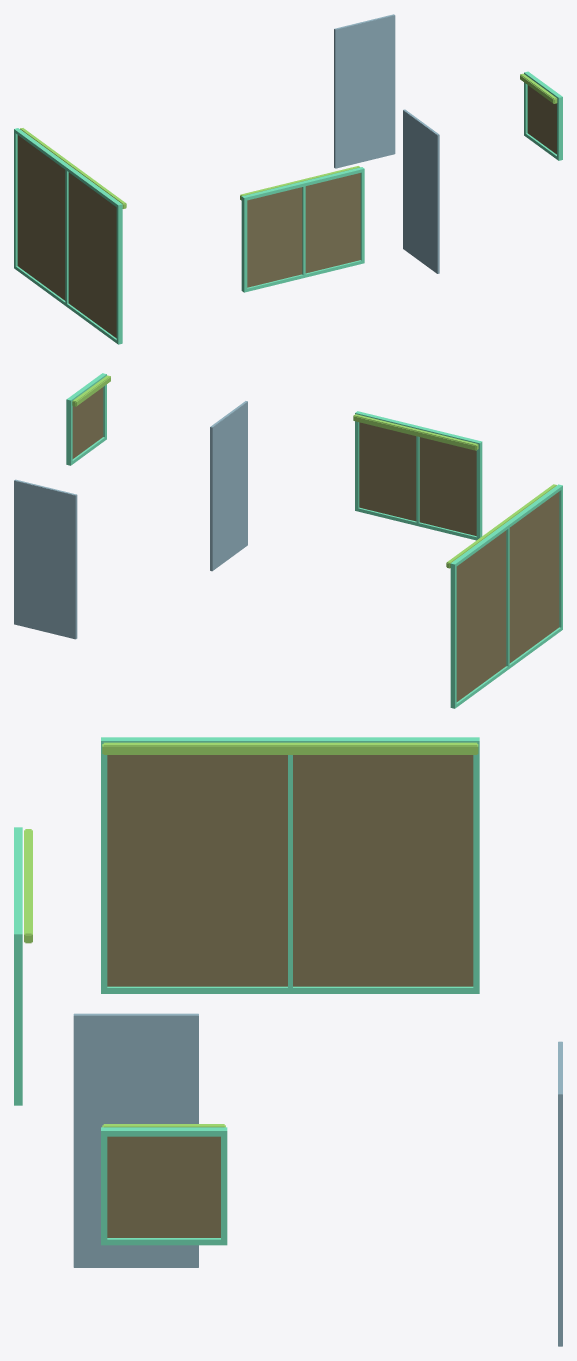
Rendered from structure.glb.
3 renders of one model, top to bottom at view 1: azimuth 30°, elevation 25°; view 2: azimuth 150°, elevation 25°; view 3: azimuth 270°, elevation 25°, orthographic. The views are drawn at different scales.
Visible parts, largest first — view 1: FEN2_W, FEN3_S, ENT1_N, PORTE0, FEN4_E; view 2: FEN2_W, FEN3_S, ENT1_N, PORTE0, FEN4_E; view 3: FEN2_W, PORTE0, FEN4_E, FEN3_S, ENT1_N.
Boxes of the visible parts, x1=… form: FEN2_W: x1=14, y1=128, x2=126, y2=344; FEN3_S: x1=240, y1=166, x2=364, y2=292; ENT1_N: x1=334, y1=14, x2=395, y2=168; PORTE0: x1=403, y1=109, x2=439, y2=273; FEN4_E: x1=520, y1=71, x2=562, y2=160; FEN2_W: x1=446, y1=484, x2=562, y2=708; FEN3_S: x1=353, y1=411, x2=482, y2=540; ENT1_N: x1=14, y1=479, x2=77, y2=639; PORTE0: x1=210, y1=401, x2=247, y2=571; FEN4_E: x1=66, y1=373, x2=110, y2=465; FEN2_W: x1=101, y1=737, x2=479, y2=993; PORTE0: x1=73, y1=1013, x2=198, y2=1267; FEN4_E: x1=101, y1=1124, x2=227, y2=1245; FEN3_S: x1=14, y1=827, x2=32, y2=1105; ENT1_N: x1=558, y1=1041, x2=562, y2=1346.
Size of the model in its own units: 7.38 by 2.21 by 4.35.
